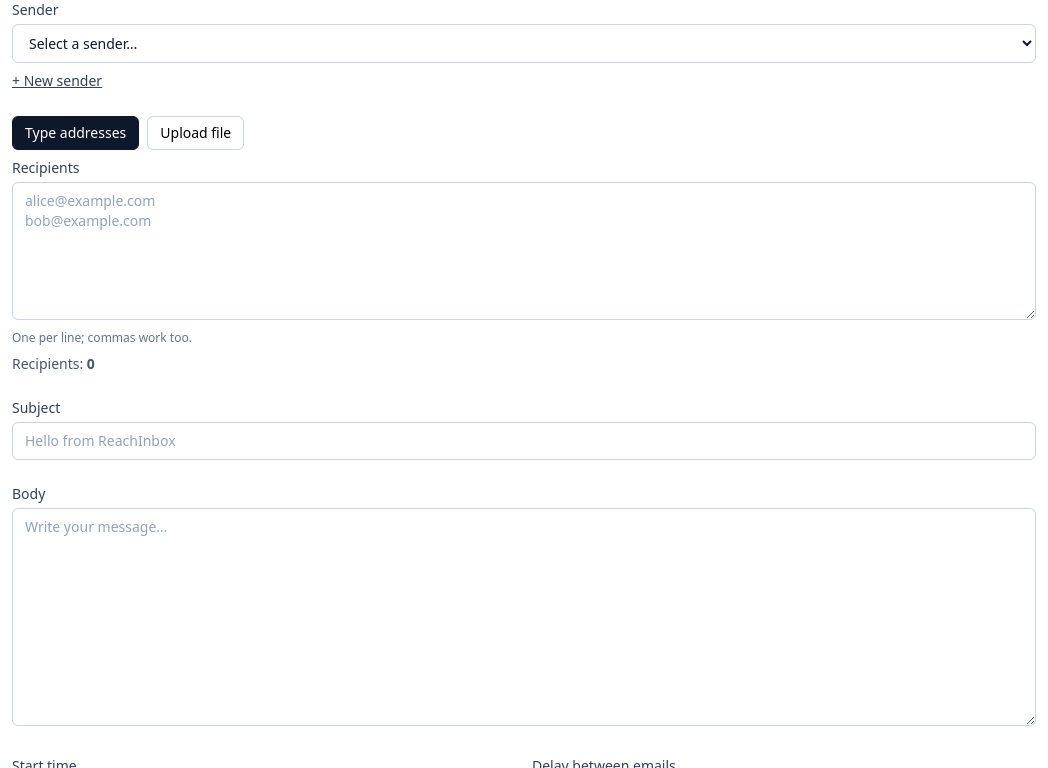
Test: ComposePage validation › rejects invalid recipients before submission
Select "News ‹news@example.com›" in the dropdown. click: (524, 44)
box: [12,24,1036,63]
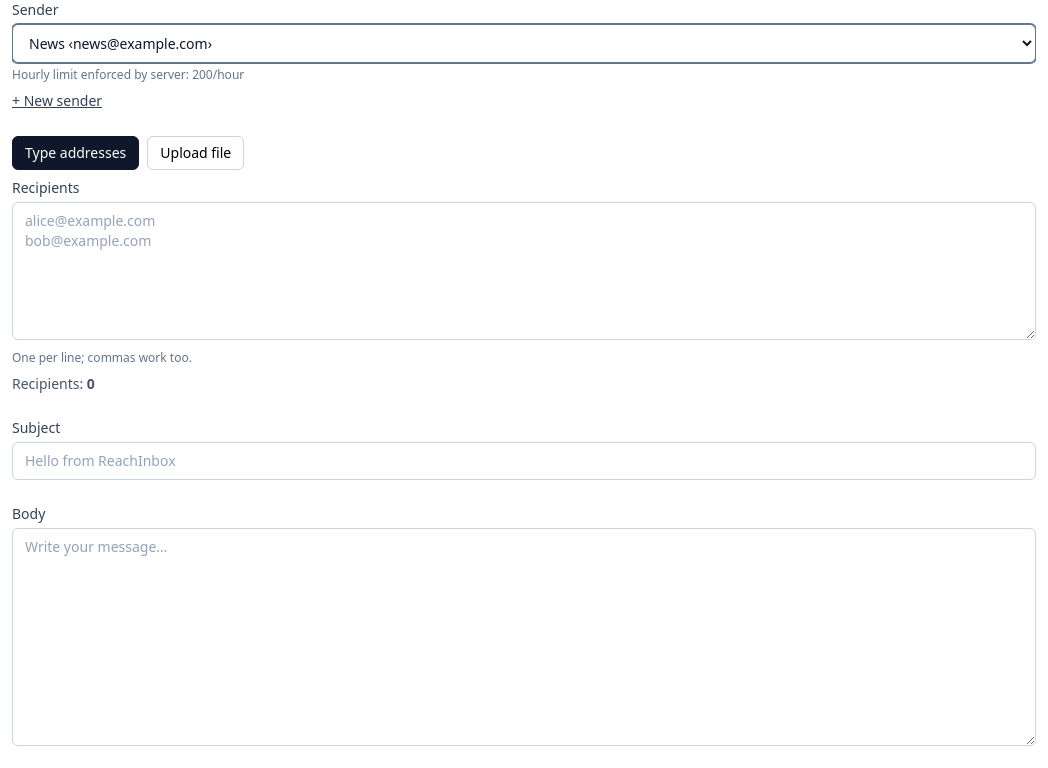
Type "Hi" into the field labelled "Subject". click: (524, 461)
box: [12,442,1036,480]
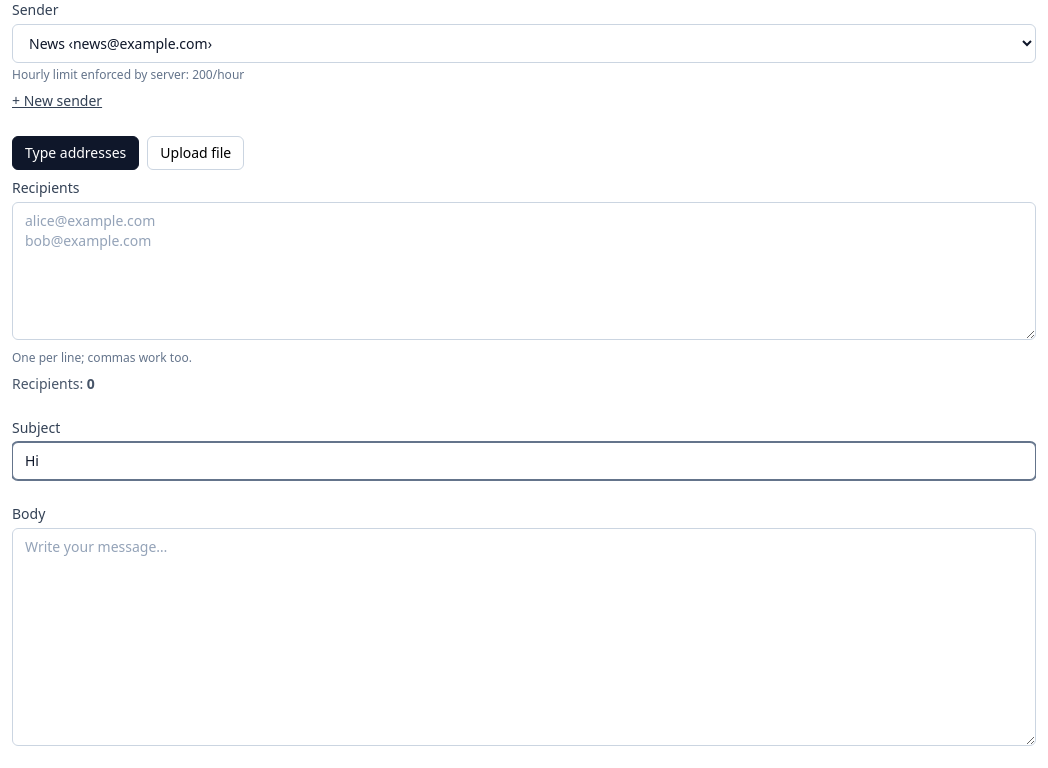
Type "Hello" into the text box labelled "Body". click: (524, 637)
box: [12,528,1036,746]
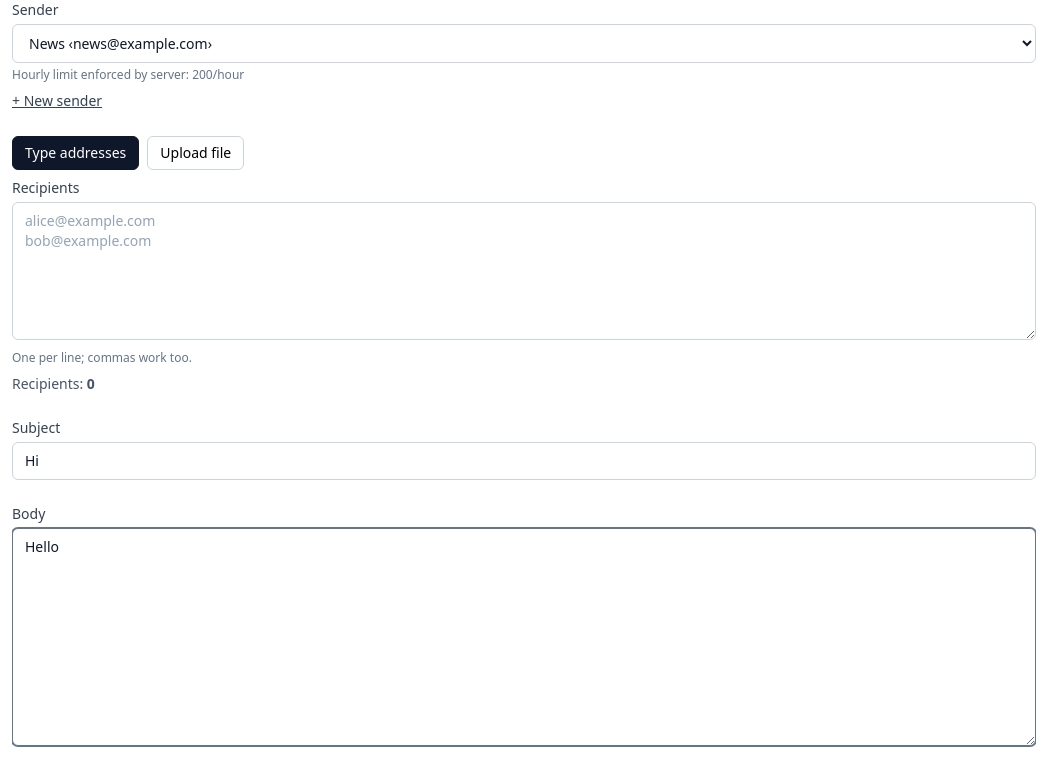
Type "not-an-email" into the text box labelled "Recipients". click: (524, 271)
box: [12,202,1036,340]
(page scrolled)
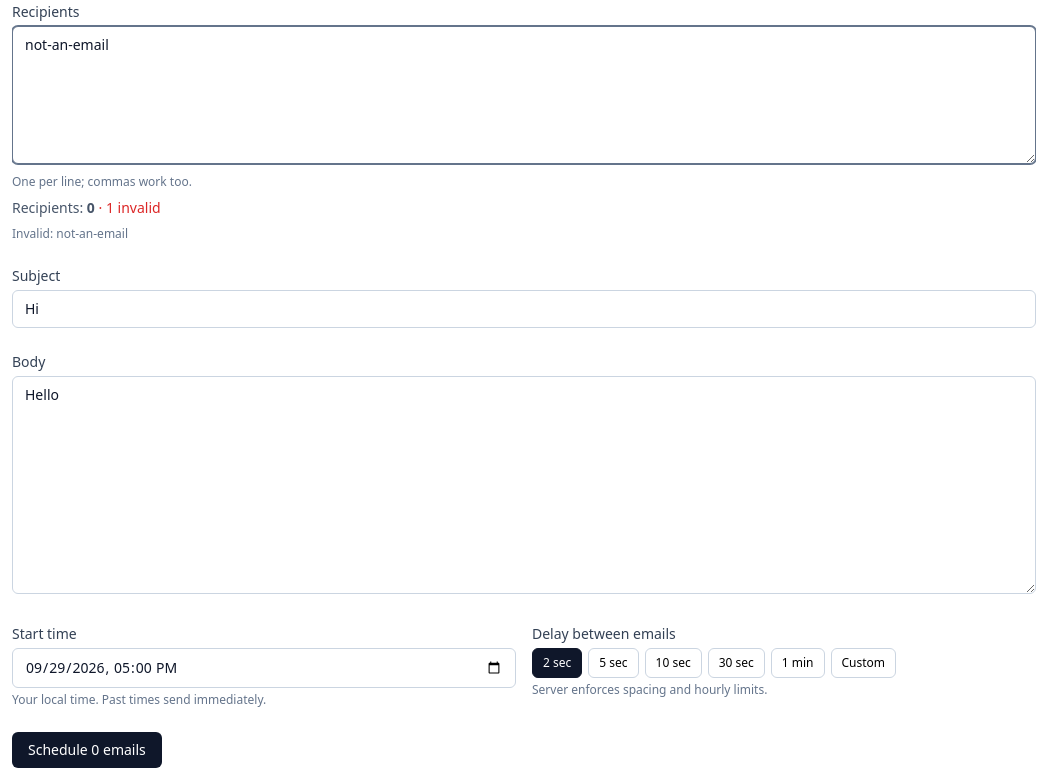
Click the button "Schedule 0 emails". click: (87, 750)
box: [12,732,162,767]
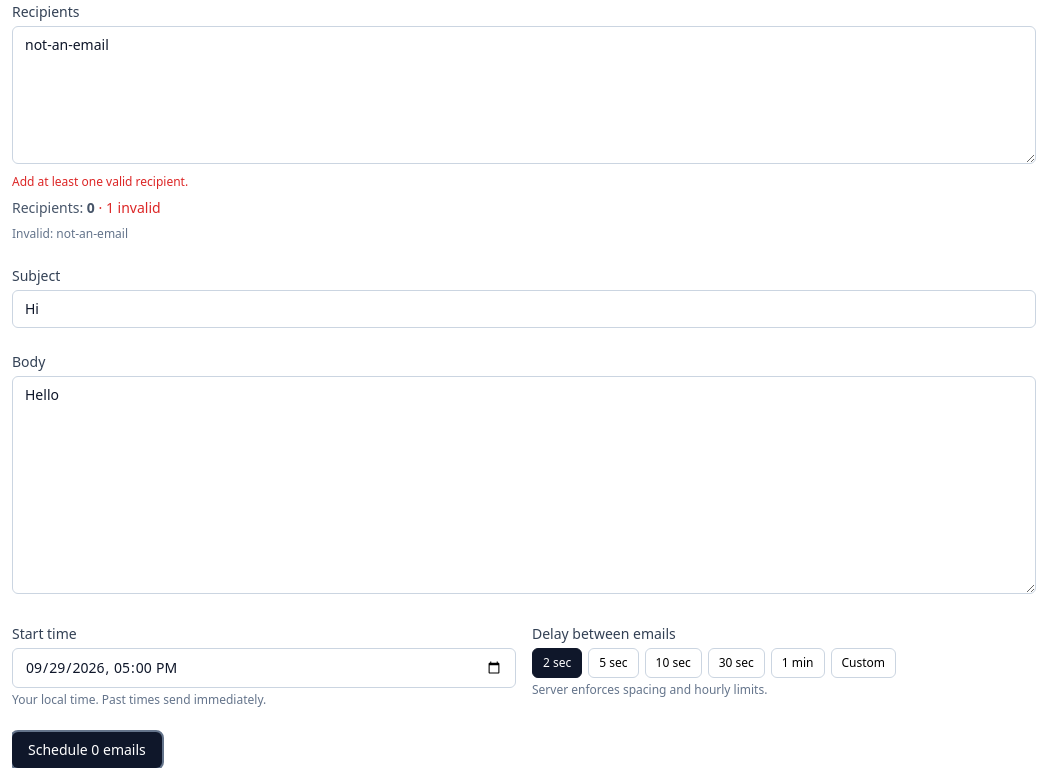
expect the text "Add at least one valid recipient." is shown: met, box [12,173,188,190]
